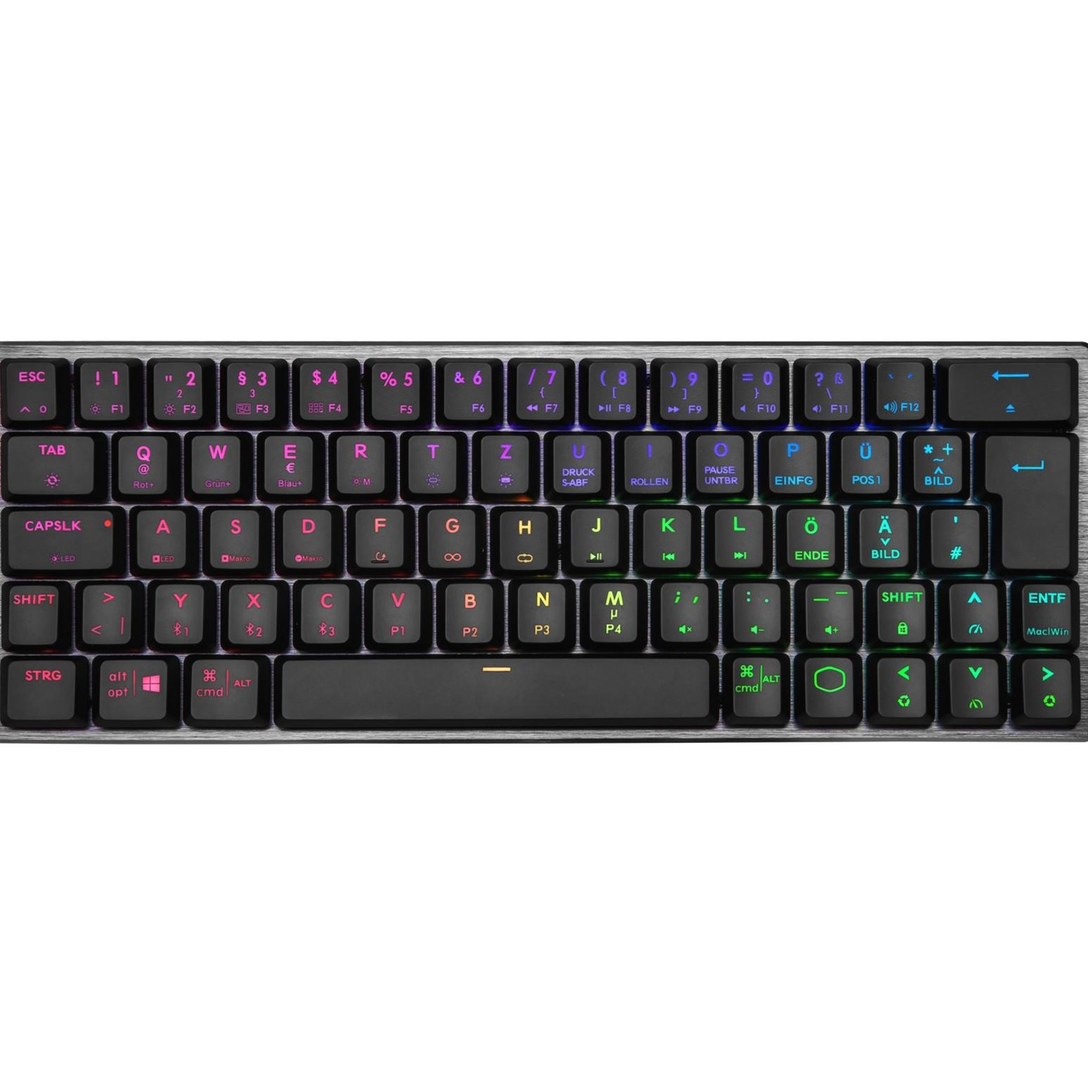0: (727, 354, 786, 423)
1: (75, 355, 134, 423)
2: (148, 354, 209, 423)
3: (220, 353, 282, 424)
4: (294, 356, 355, 426)
5: (365, 354, 426, 423)
6: (439, 354, 498, 422)
7: (512, 355, 569, 422)
8: (583, 354, 642, 423)
9: (655, 354, 713, 422)
a: (134, 506, 190, 574)
accent: (872, 354, 930, 423)
ae: (857, 505, 912, 571)
alt-left: (183, 652, 262, 720)
altgr-right: (730, 653, 784, 720)
b: (441, 576, 495, 644)
c: (297, 577, 351, 644)
caret: (1, 356, 59, 423)
comma: (656, 576, 711, 644)
d: (279, 501, 334, 569)
del: (944, 356, 1075, 422)
e: (259, 429, 316, 494)
enter: (980, 432, 1074, 571)
f: (351, 502, 406, 568)
g: (423, 501, 479, 569)
h: (495, 503, 550, 570)
hash: (928, 505, 983, 571)
i: (620, 430, 678, 499)
j: (567, 501, 621, 568)
k: (640, 504, 694, 571)
keyboard: (1, 338, 1088, 742)
l: (711, 504, 765, 571)
less: (77, 577, 134, 645)
m: (584, 576, 640, 643)
minus: (801, 578, 856, 645)
n: (512, 576, 570, 644)
o: (692, 431, 750, 500)
oe: (782, 505, 840, 571)
p: (765, 427, 822, 496)
plus: (908, 429, 966, 498)
point: (729, 576, 784, 642)
q: (112, 429, 170, 496)
r: (332, 429, 388, 493)
s: (205, 502, 261, 569)
shift-left: (1, 578, 60, 646)
shift-lock: (4, 503, 117, 571)
shift-right: (874, 579, 929, 646)
space: (275, 652, 718, 722)
ss: (799, 354, 857, 422)
strg-left: (2, 654, 78, 721)
t: (405, 429, 458, 493)
tab: (4, 429, 96, 496)
u: (549, 431, 607, 500)
ue: (837, 429, 895, 498)
v: (367, 576, 425, 643)
w: (187, 428, 244, 495)
x: (224, 576, 280, 645)
y: (150, 576, 206, 645)
z: (477, 427, 531, 493)
